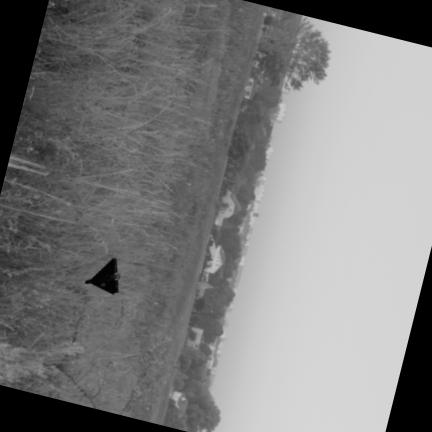Shahed: (85, 258, 119, 292)
